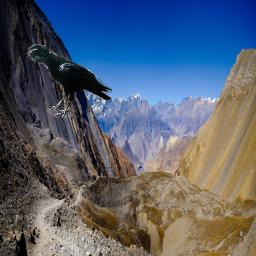Crow: (27, 44, 112, 118)
